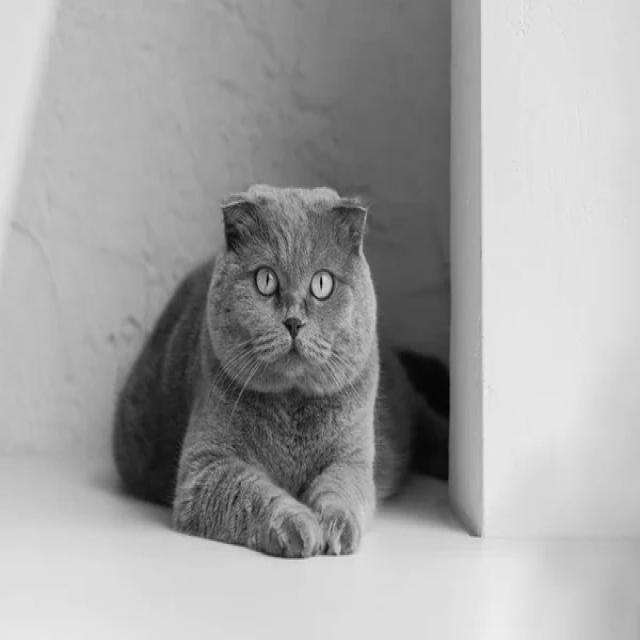Animal: (112, 177, 430, 538)
